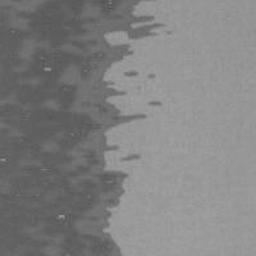Water spot: (0, 0, 168, 256)
